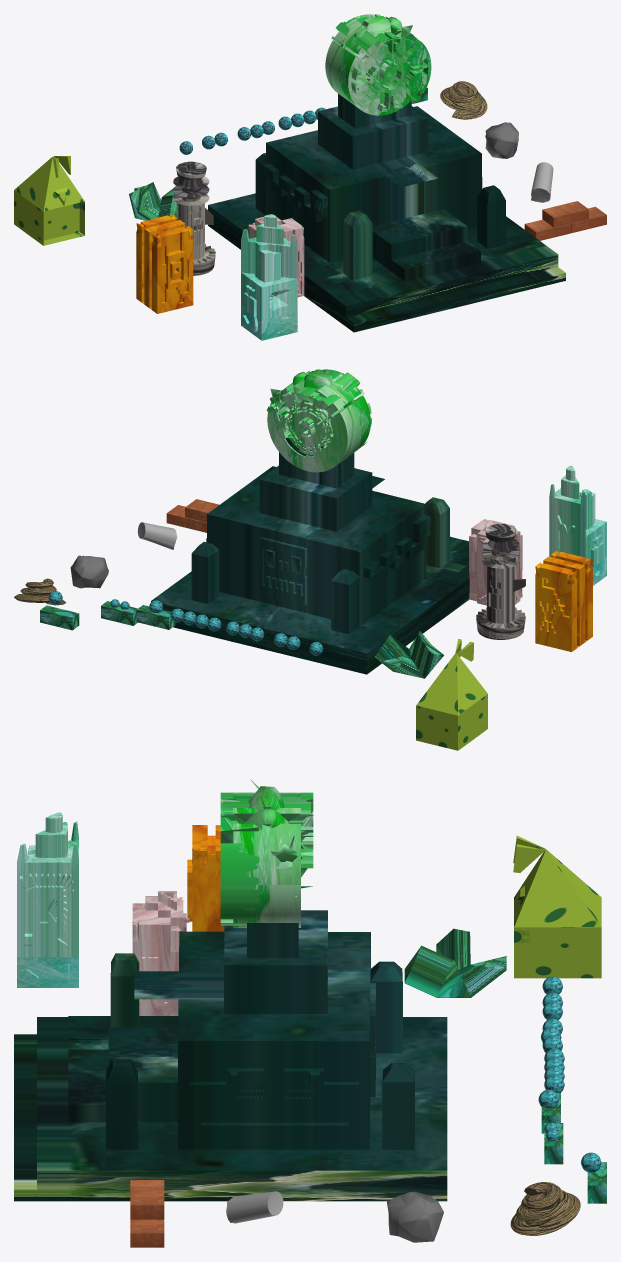
File: Piramide Rueda.fbx
3 renders of one model, top to bottom at view 1: azimuth 30°, elevation 25°; view 2: azimuth 150°, elevation 25°; view 3: azimuth 270°, elevation 25°, orthographic. The views are drawn at different scales.
Visible parts, largest first — view 1: polySurface1, polySurface2, Ruin_3, Ruin_1, frog, Ruin, arcilla, paloma, cuerda, Ruin_2, stone, wood (+2 smaller); view 2: polySurface1, polySurface2, Ruin_1, frog, Ruin_3, Ruin, paloma, Ruin_2, arcilla, stone, Cinco, wood (+4 smaller); view 3: polySurface1, polySurface2, frog, Ruin_3, Ruin_2, paloma, Ruin_1, cuerda, arcilla, stone, wood, Seis (+3 smaller).
Part boxes in pixels (box(x1,y1,x2,y2)): polySurface1: box(208, 93, 565, 332); polySurface2: box(325, 14, 431, 115); Ruin_3: box(241, 214, 297, 340); Ruin_1: box(136, 214, 193, 313); frog: box(14, 156, 84, 245); Ruin: box(173, 161, 215, 275); arcilla: box(524, 201, 606, 240); paloma: box(129, 182, 177, 220); cuerda: box(440, 81, 487, 119); Ruin_2: box(248, 217, 304, 297); stone: box(485, 122, 518, 158); wood: box(531, 162, 553, 202); polySurface1: box(151, 438, 469, 674); polySurface2: box(266, 369, 371, 472); Ruin_1: box(535, 551, 592, 651); frog: box(416, 639, 487, 750); Ruin_3: box(549, 465, 606, 585); Ruin: box(476, 523, 525, 639); paloma: box(374, 631, 443, 678); Ruin_2: box(469, 519, 522, 605); arcilla: box(166, 499, 219, 532); stone: box(70, 555, 108, 588); Cinco: box(136, 600, 175, 629); wood: box(137, 522, 177, 549); polySurface1: box(14, 910, 447, 1201); polySurface2: box(220, 779, 313, 927); frog: box(513, 835, 601, 978); Ruin_3: box(17, 812, 78, 987); Ruin_2: box(132, 891, 189, 1015); paloma: box(404, 928, 506, 997); Ruin_1: box(187, 825, 224, 931); cuerda: box(510, 1182, 580, 1235); arcilla: box(130, 1180, 164, 1247); stone: box(387, 1191, 443, 1242); wood: box(226, 1191, 283, 1223); Seis: box(544, 1122, 563, 1164).
Bounding box in the file's own units: 22.9 × 10.98 × 17.54.
14 materials, 12 textured.
